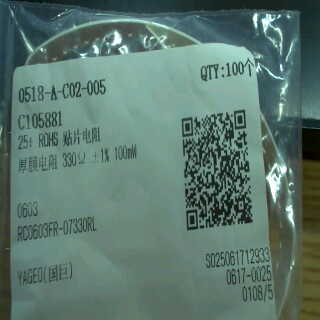330R: (61, 149, 88, 170)
